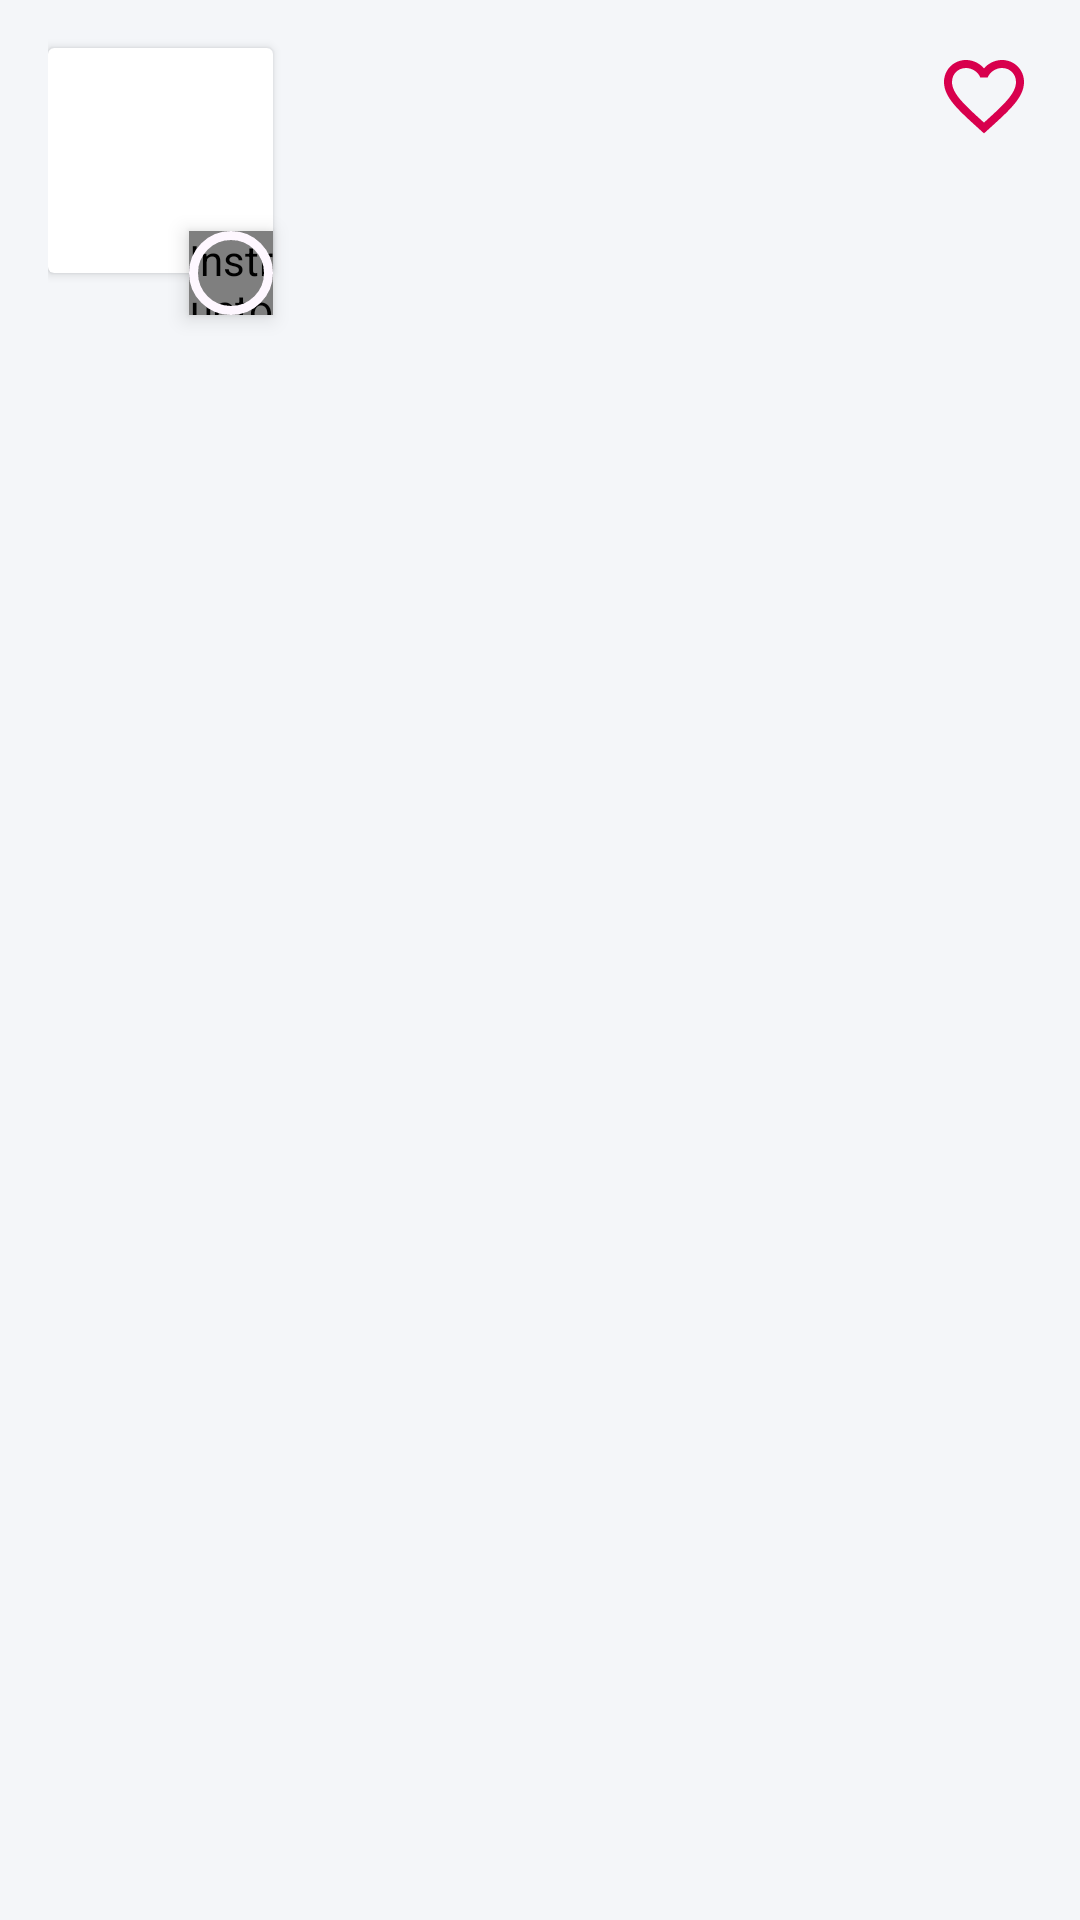

Named icons in this screenshot (1080×1920) and their bounding boxes, [x1,y1,x2,y2]:
Add to favorites: [944,60,1024,133]
